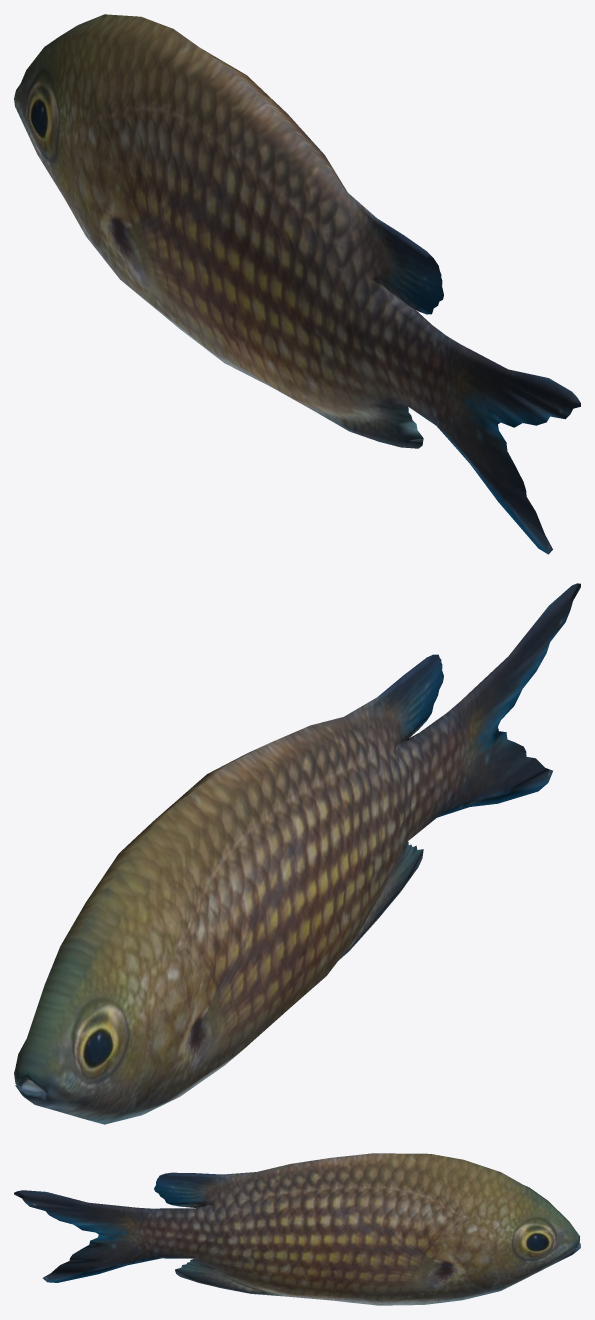
The model's file is Chromis.glb.
The picture shows the model from 3 angles, top to bottom: view 1: azimuth 30°, elevation 25°; view 2: azimuth 150°, elevation 25°; view 3: azimuth 270°, elevation 25°; orthographic projection. The views are drawn at different scales.
Visible parts, largest first — view 1: Chromis; view 2: Chromis; view 3: Chromis.
Part boxes in pixels (bbox=[...]): Chromis: bbox=[14, 14, 580, 554]; Chromis: bbox=[14, 583, 580, 1124]; Chromis: bbox=[14, 1153, 580, 1305].
Size of the model in its own units: 1.15 by 3.66 by 12.33.
Materials: 1 (1 with a texture image).
